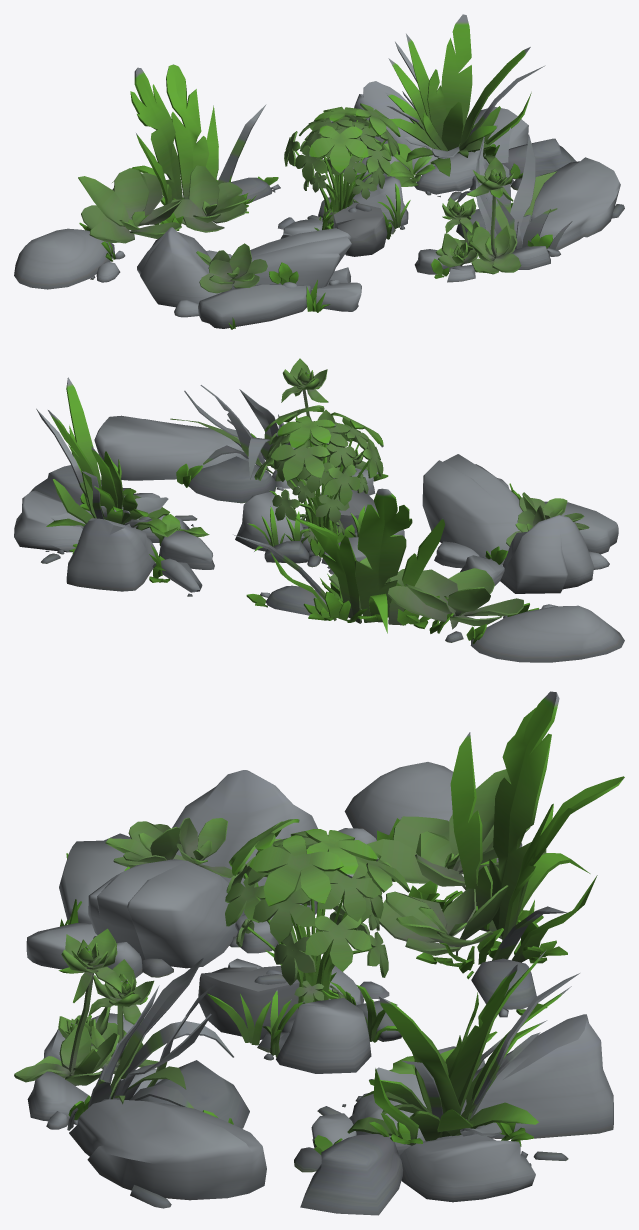
File: pedras-grama.glb
3 views of the same model, one above another, from view 1: azimuth 30°, elevation 25°; view 2: azimuth 150°, elevation 25°; view 3: azimuth 270°, elevation 25° (orthographic). The views are drawn at different scales.
Visible parts, largest first — view 1: rock_grass_01_0, rock_grass_02_1, rock_grass_03_2, Plane_4, rock_grass_04_3; view 2: rock_grass_01_0, rock_grass_02_1, Plane_4, rock_grass_04_3, rock_grass_03_2; view 3: rock_grass_02_1, rock_grass_01_0, rock_grass_03_2, rock_grass_04_3, Plane_4.
Part boxes in pixels (bbox=[...]): rock_grass_01_0: bbox=[14, 64, 280, 289]; rock_grass_02_1: bbox=[314, 14, 576, 200]; rock_grass_03_2: bbox=[414, 127, 624, 282]; Plane_4: bbox=[137, 227, 361, 329]; rock_grass_04_3: bbox=[278, 103, 410, 256]; rock_grass_01_0: bbox=[233, 488, 624, 662]; rock_grass_02_1: bbox=[14, 377, 214, 596]; Plane_4: bbox=[422, 454, 618, 593]; rock_grass_04_3: bbox=[235, 405, 404, 574]; rock_grass_03_2: bbox=[94, 358, 388, 503]; rock_grass_02_1: bbox=[294, 950, 613, 1215]; rock_grass_01_0: bbox=[338, 691, 624, 1017]; rock_grass_03_2: bbox=[14, 928, 266, 1208]; rock_grass_04_3: bbox=[198, 819, 410, 1073]; Plane_4: bbox=[26, 770, 317, 977].
Bounding box in the file's own units: 1.59 × 0.4033 × 0.9504.
1 material, 1 textured.
